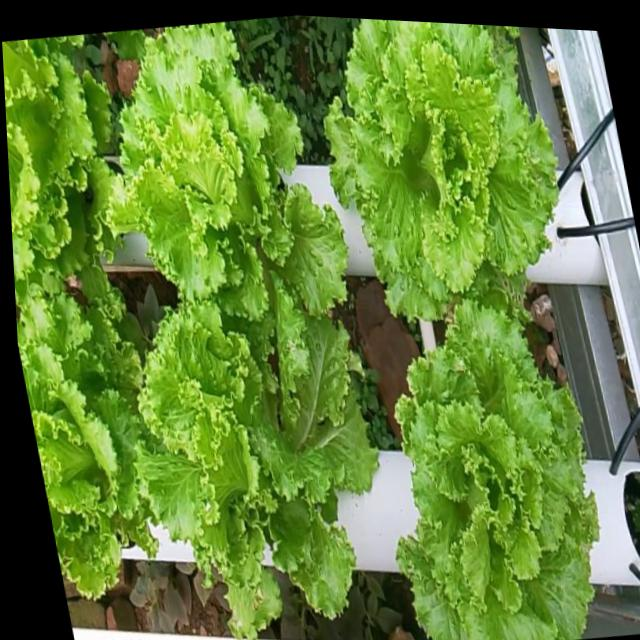Mature: (136, 310, 377, 640), (115, 24, 345, 344), (392, 293, 596, 640), (322, 19, 555, 320), (17, 297, 154, 601), (2, 37, 110, 304)
